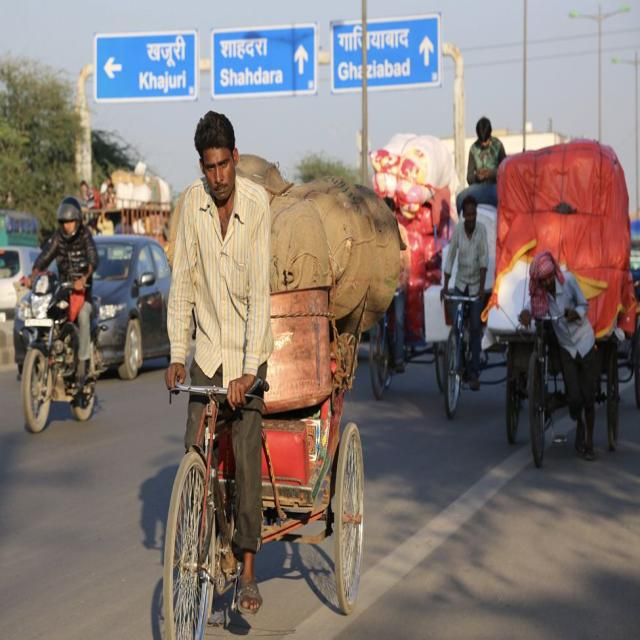car: (92, 236, 171, 379)
motorcycle: (18, 195, 104, 431)
